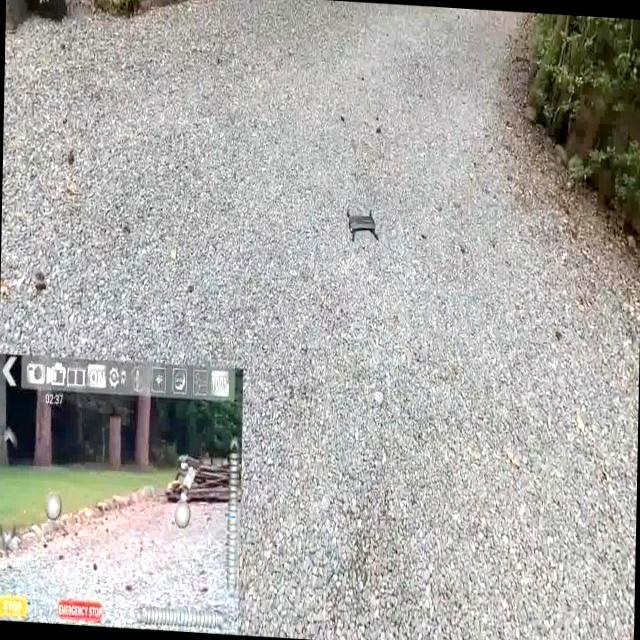drone: (344, 204, 381, 243)
